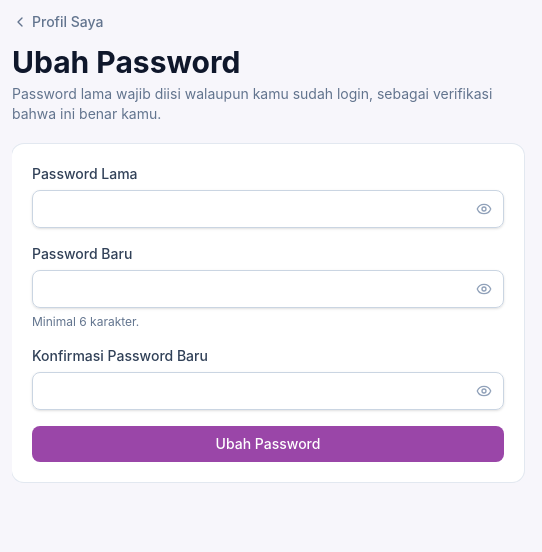
Test: ChangePasswordPage › menampilkan pesan sukses dan mengosongkan form setelah berhasil
The width and height of the screenshot is (542, 552).
Type "rahasia123" into the password field labelled "Password Lama" at {"x": 268, "y": 209}, box [32,190,504,228]
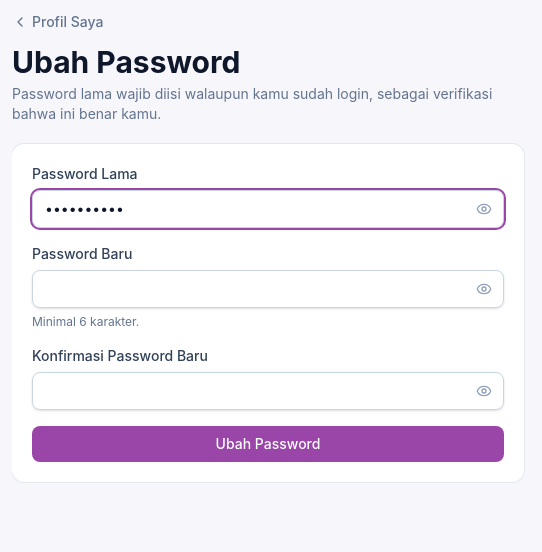
Type "rahasiabaru" into the password field labelled "Password Baru" at {"x": 268, "y": 289}, box [32,270,504,308]
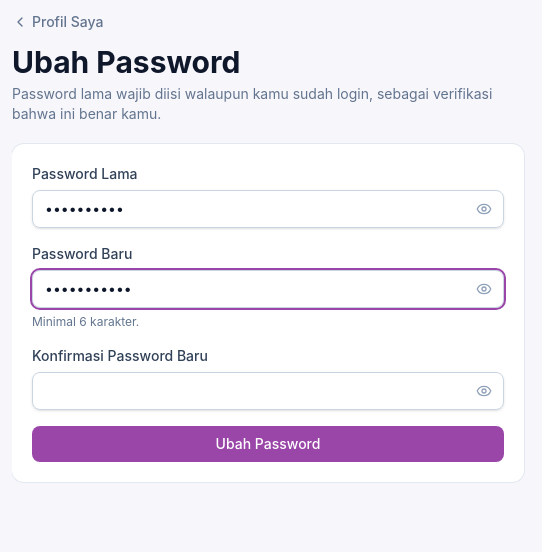
Type "rahasiabaru" into the password field labelled "Konfirmasi Password Baru" at {"x": 268, "y": 391}, box [32,372,504,410]
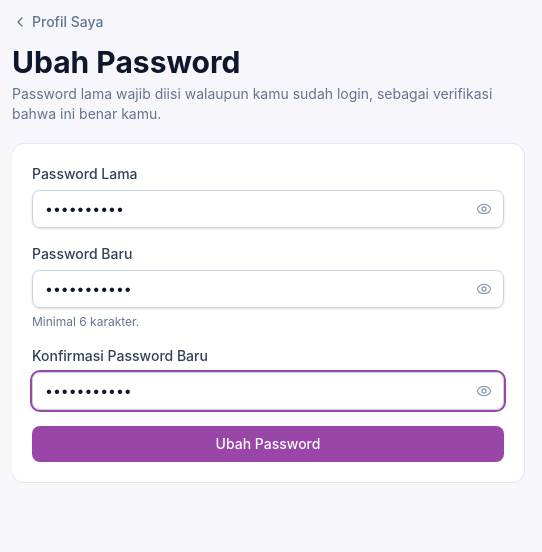
Click the button "Ubah Password" at {"x": 268, "y": 444}, box [32,426,504,462]
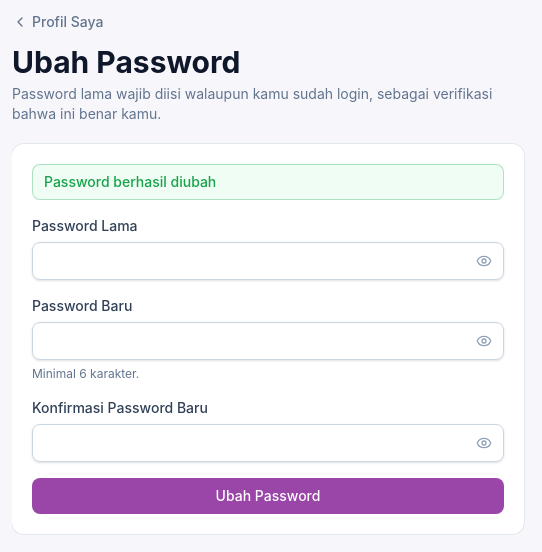
Expected: the text "Password berhasil diubah" is shown, [44,173,216,190]
Expected: the password field labelled "Password Lama" is empty, [32,242,504,280]
Expected: the password field labelled "Password Baru" is empty, [32,322,504,360]
